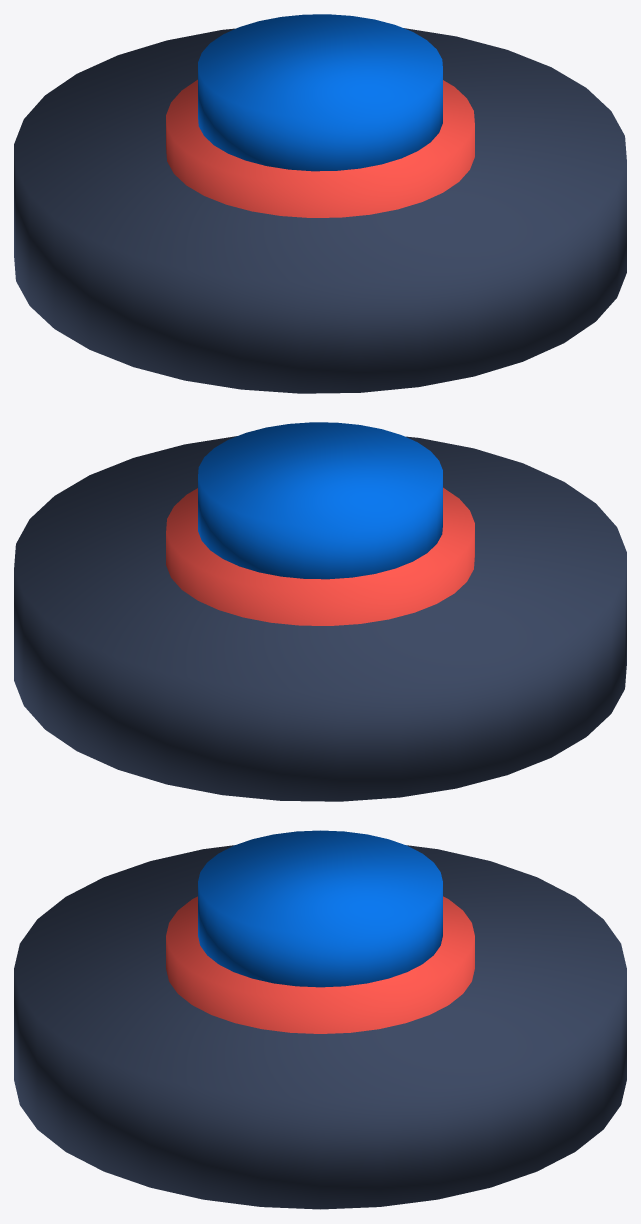
File: button_small.glb
3 views of the same model, one above another, from view 1: azimuth 30°, elevation 25°; view 2: azimuth 150°, elevation 25°; view 3: azimuth 270°, elevation 25° (orthographic).
Visible parts, largest first — view 1: ButtonBase, ButtonTop, Cylinder; view 2: ButtonBase, ButtonTop, Cylinder; view 3: ButtonBase, ButtonTop, Cylinder.
Boxes of the visible parts, bbox=[...] form: ButtonBase: bbox=[14, 28, 626, 393]; ButtonTop: bbox=[198, 14, 442, 171]; Cylinder: bbox=[166, 79, 474, 217]; ButtonBase: bbox=[14, 436, 626, 801]; ButtonTop: bbox=[198, 422, 442, 579]; Cylinder: bbox=[166, 487, 474, 625]; ButtonBase: bbox=[14, 845, 626, 1209]; ButtonTop: bbox=[198, 830, 442, 987]; Cylinder: bbox=[166, 896, 474, 1033].
Bounding box in the file's own units: 2 × 0.7116 × 2.
